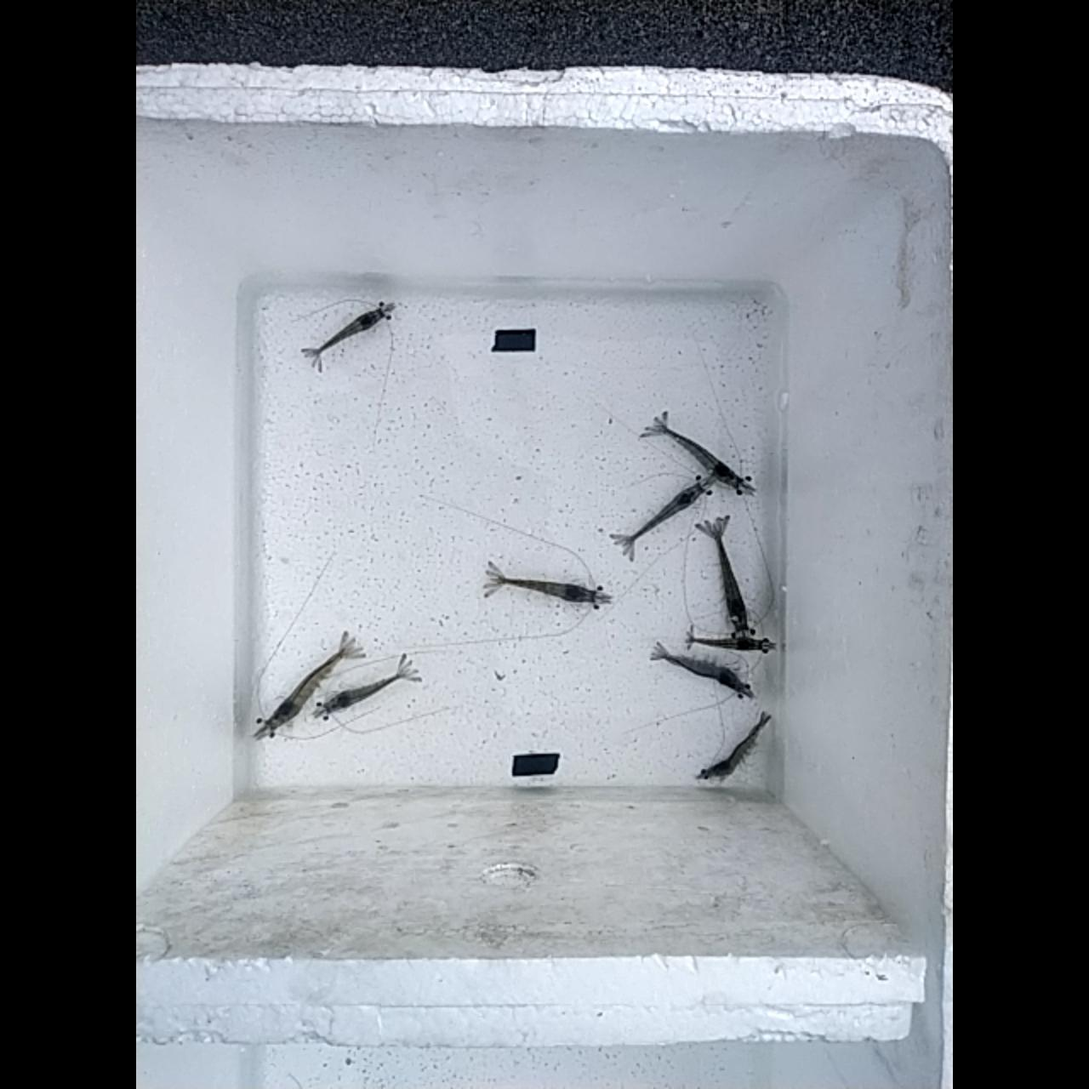box: (495, 328, 534, 352), (514, 754, 556, 774)
top_shrimp: (267, 647, 347, 728), (659, 427, 740, 487), (624, 483, 699, 543), (708, 720, 766, 778), (715, 526, 747, 630), (325, 672, 405, 713), (659, 652, 742, 689), (313, 310, 383, 352), (490, 579, 594, 603), (686, 638, 761, 651)
